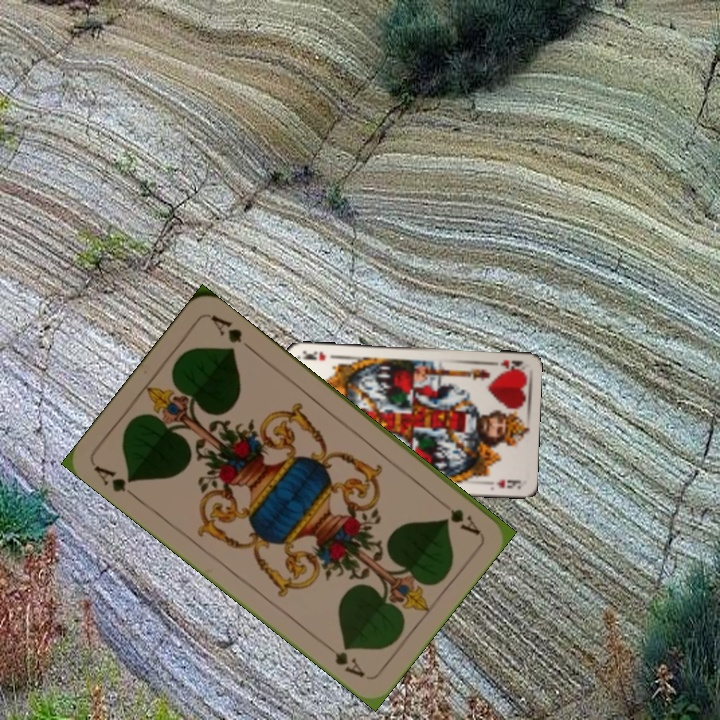GA: (433, 495, 483, 538), (89, 461, 141, 502)
HK: (485, 356, 525, 373)
